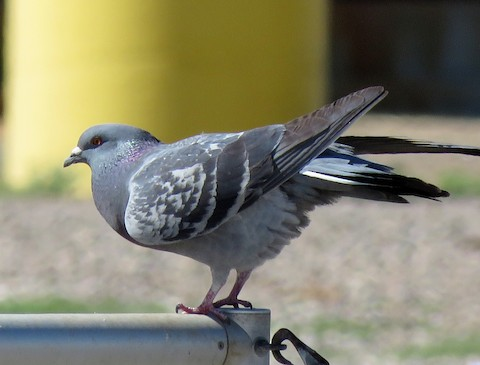pigeon: (57, 78, 451, 326)
